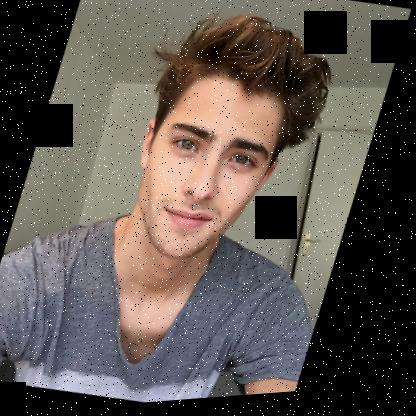Male: (113, 60, 305, 277)
